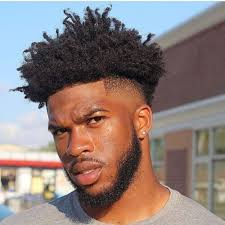black_male: (39, 46, 160, 198)
